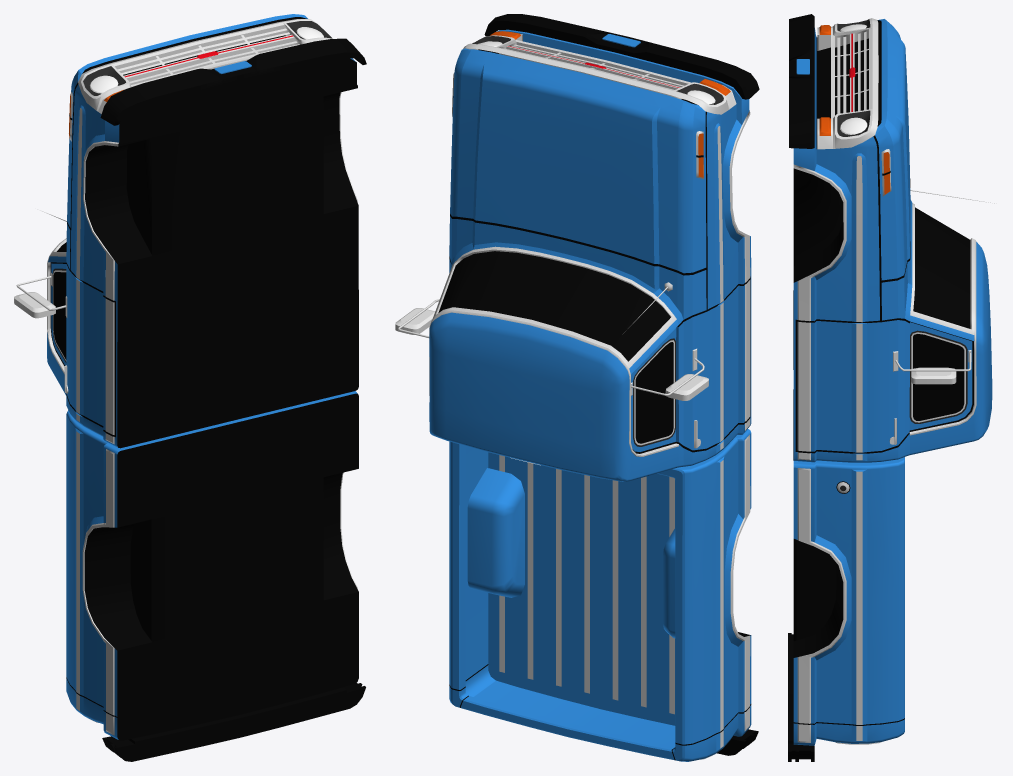
File: body.fbx
3 renders of one model, left to right at view 1: azimuth 30°, elevation 25°; view 2: azimuth 150°, elevation 25°; view 3: azimuth 270°, elevation 25°, orthographic. The views are drawn at different scales.
Visible parts, largest first — view 1: body; view 2: body; view 3: body.
Boxes of the visible parts, x1,y1,x2,y2 form: body: (14,14,366,761); body: (395,14,759,761); body: (788,14,994,761).
Bounding box in the file's own units: 207 × 464 × 137.
